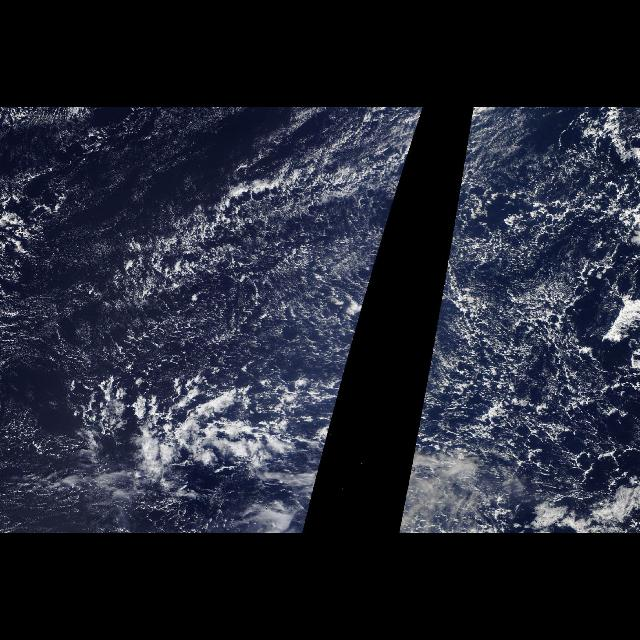Fish: (90, 380, 326, 496), (246, 126, 412, 228), (101, 185, 239, 301)
Gravel: (60, 142, 400, 440), (416, 124, 640, 510)
